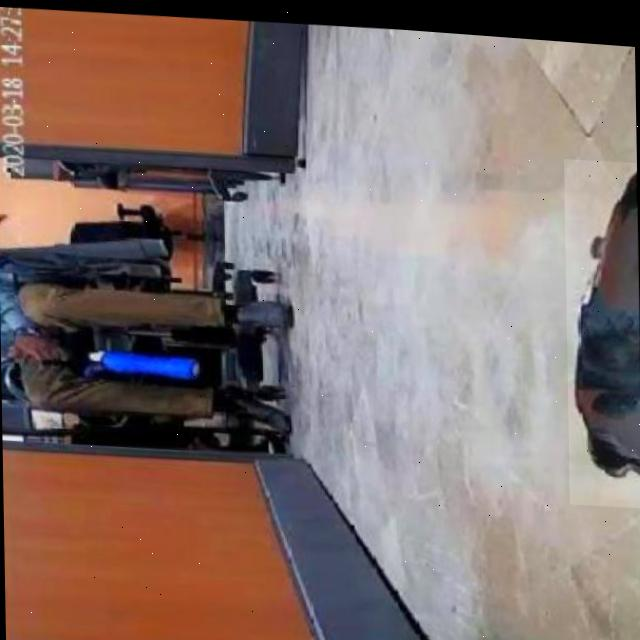spillage: (569, 152, 640, 495)
